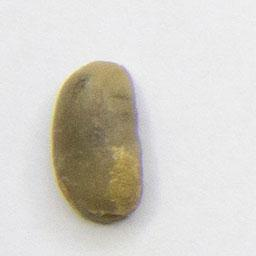longberry: (48, 57, 148, 227)
